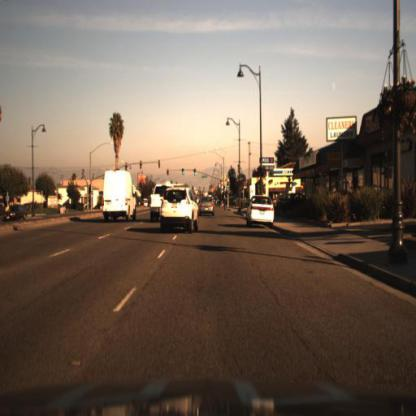biker: (221, 189, 230, 211)
car: (159, 187, 201, 235), (102, 168, 138, 223), (279, 192, 315, 218), (149, 183, 172, 218), (250, 197, 275, 228), (199, 195, 217, 217)
truck: (103, 173, 135, 228)
